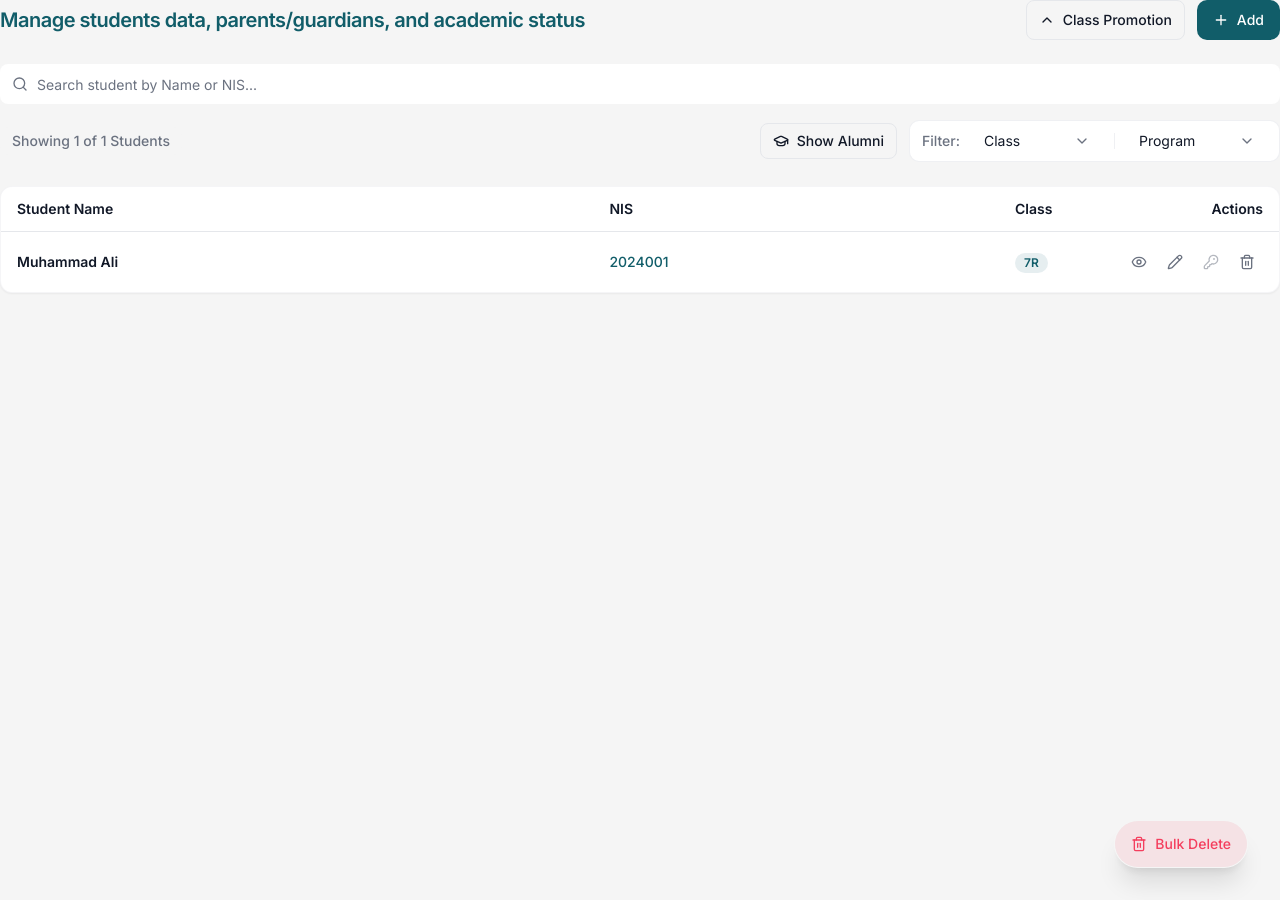
Test: SantriPage Integration Test › should open promotion dialog when Class Promotion button is clicked
Click the button "Class Promotion".
click(1105, 20)  # box x1=1026 y1=0 x2=1185 y2=40
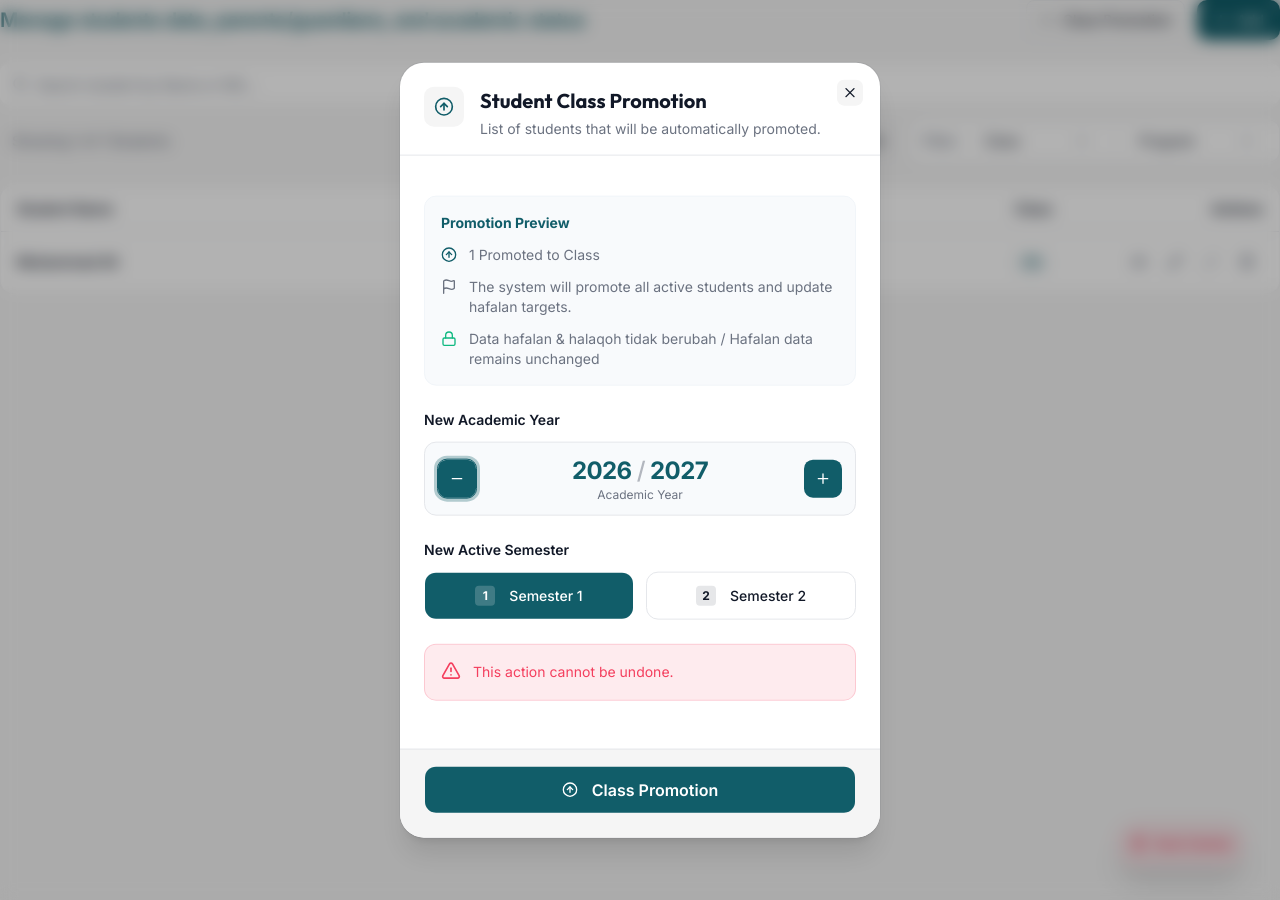
Expected: the dialog is shown, x1=400 y1=63 x2=880 y2=837
